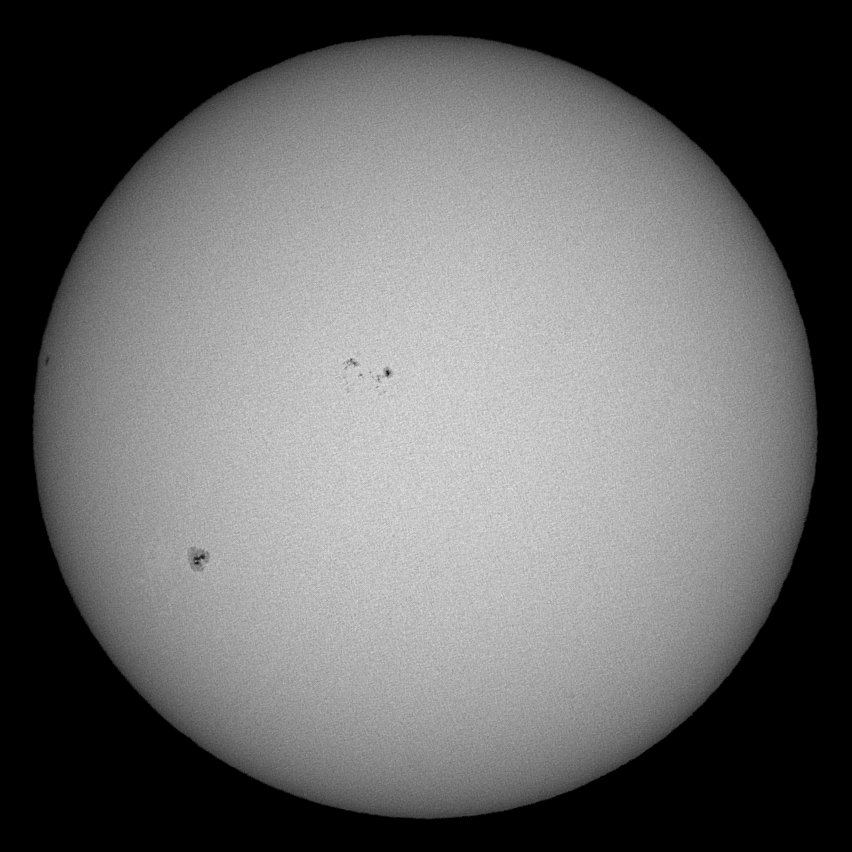sunspot: (340, 354, 397, 393), (184, 542, 214, 573)
